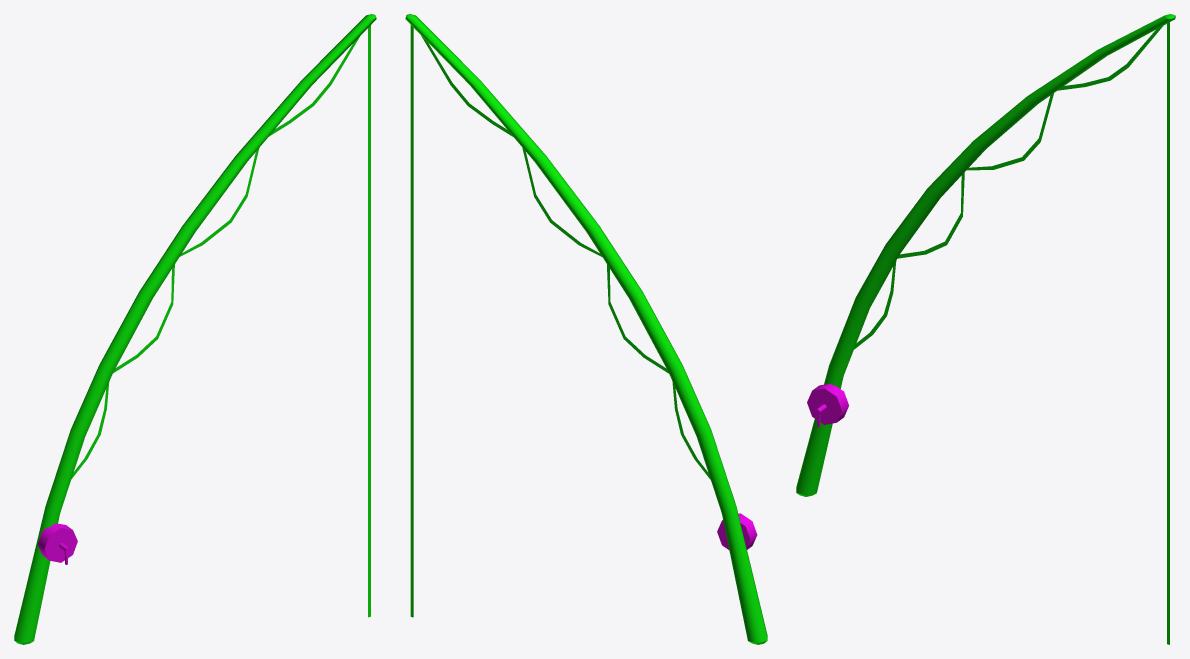
The model's file is Fishing_Rod.fbx.
3 renders of one model, left to right at view 1: azimuth 30°, elevation 25°; view 2: azimuth 150°, elevation 25°; view 3: azimuth 330°, elevation 25°, orthographic. The views are drawn at different scales.
Parts seen in each view (by area): view 1: Fishing_Rod; view 2: Fishing_Rod; view 3: Fishing_Rod.
Part boxes in pixels (box(x1,y1,x2,y2)): Fishing_Rod: box(14, 14, 376, 644); Fishing_Rod: box(405, 14, 767, 644); Fishing_Rod: box(796, 14, 1175, 644).
Size of the model in its own units: 211 by 335 by 21.85.
